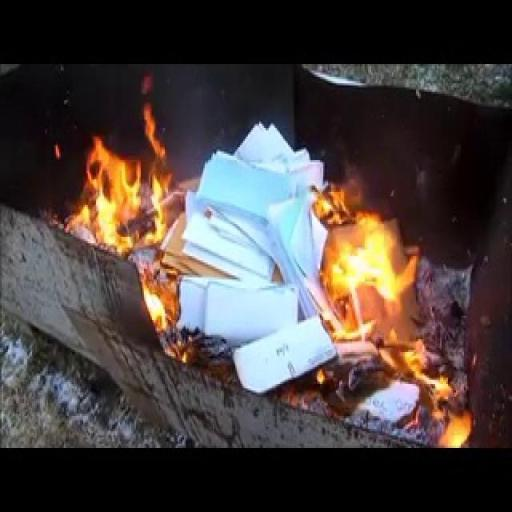smoke: (306, 156, 428, 362), (40, 82, 176, 266)
